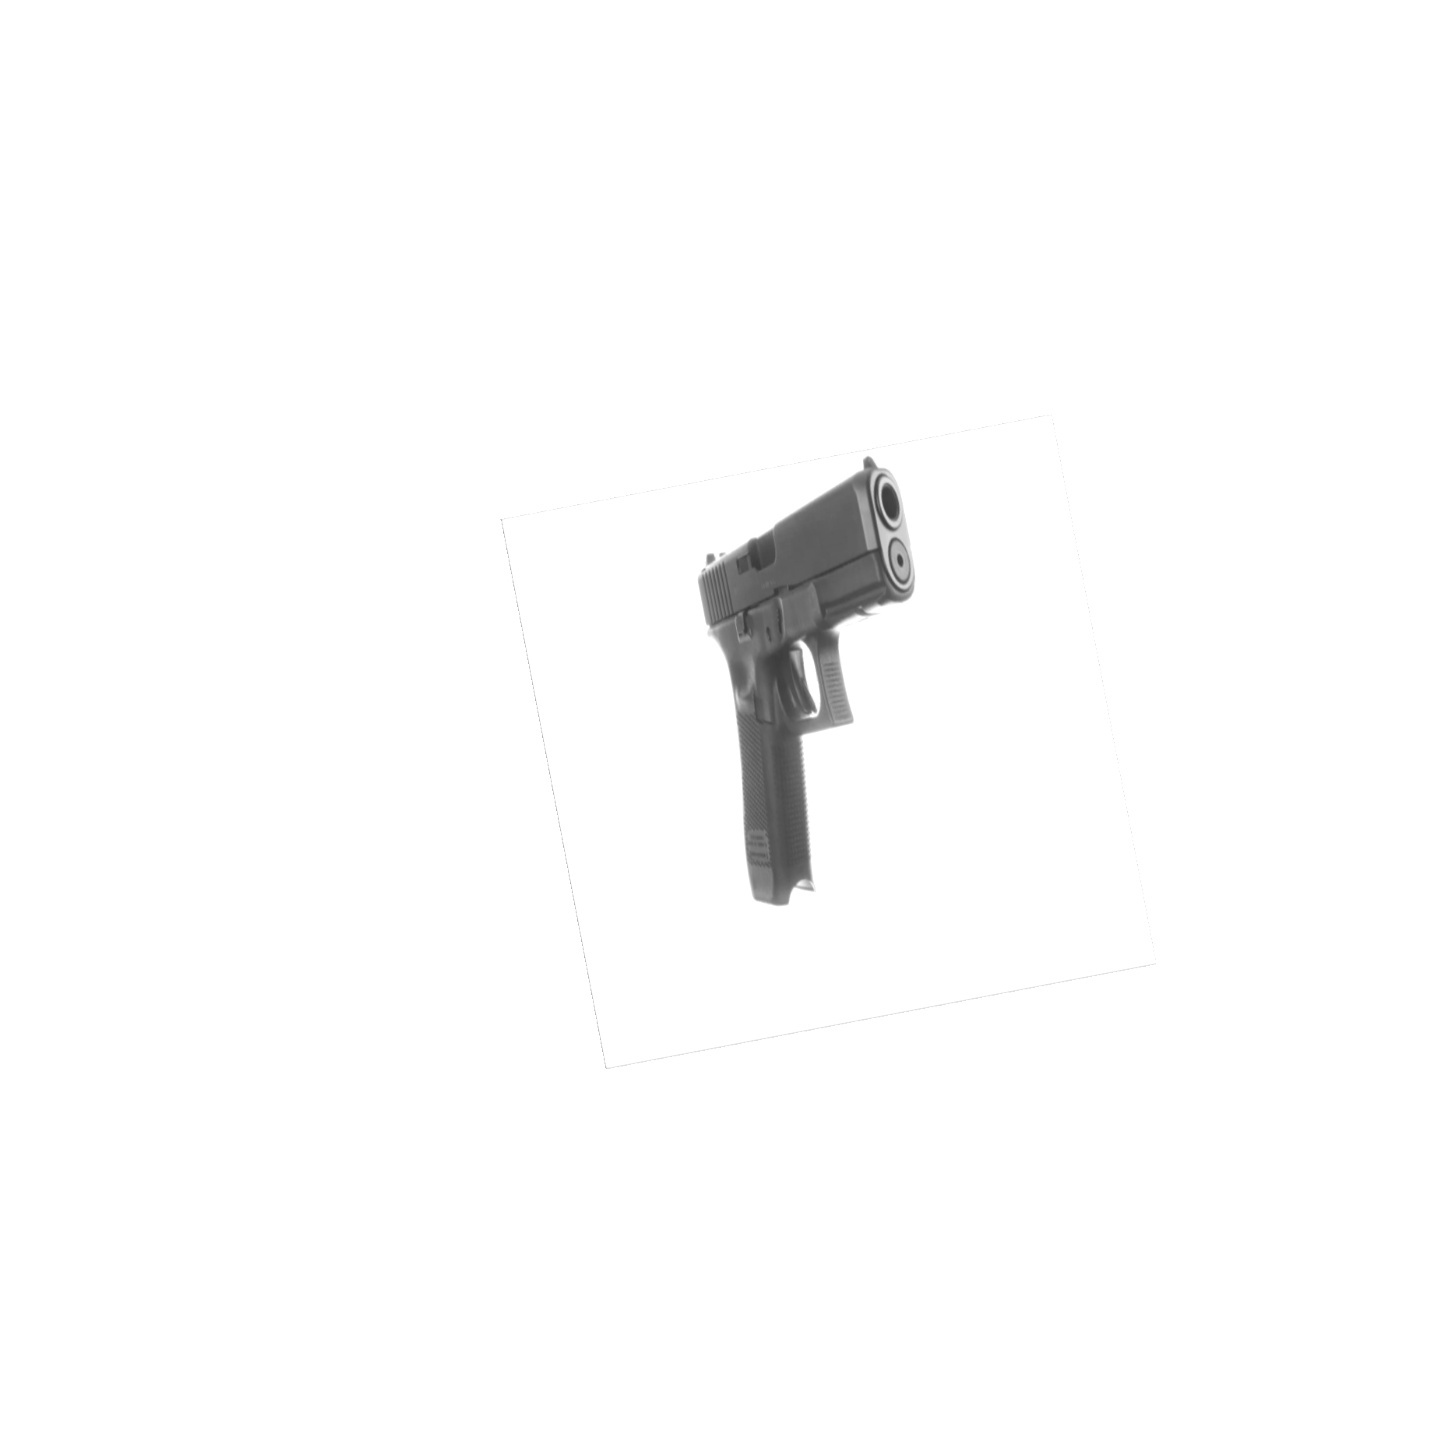gun: (683, 446, 924, 917)
